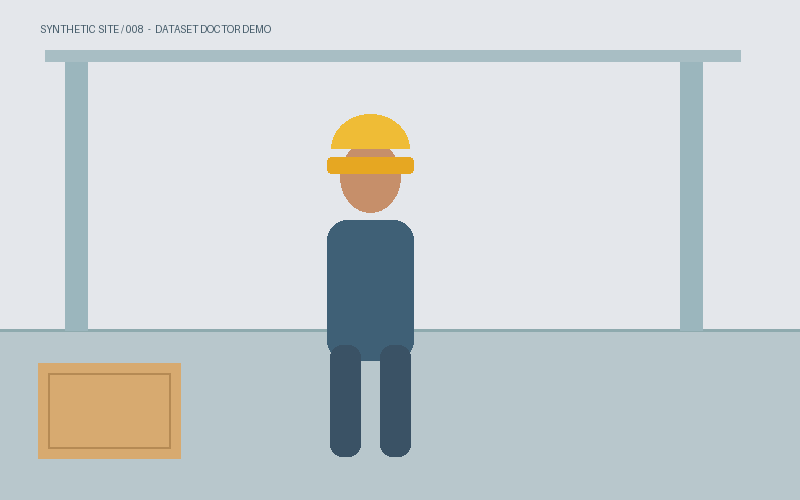Safety-Helmet: (327, 127, 413, 173)
